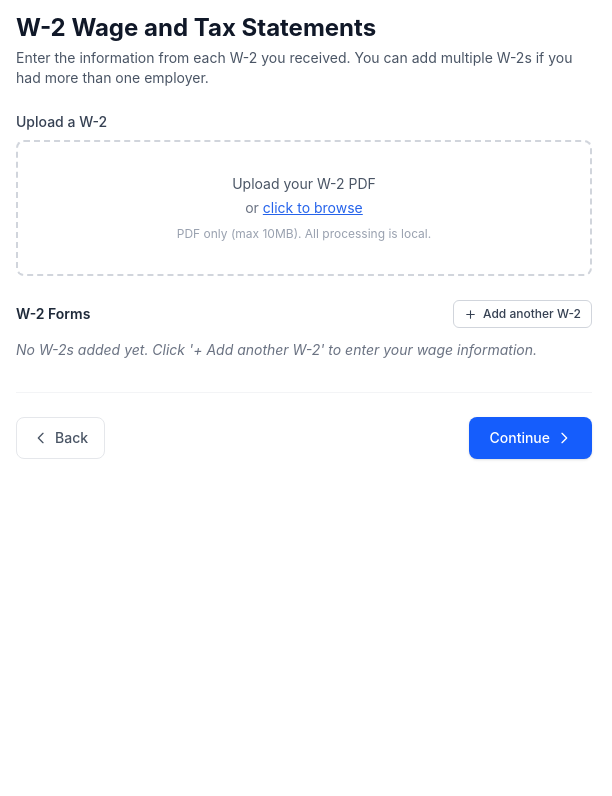
Scenario: W2IncomePage › updates employer name in store
The width and height of the screenshot is (612, 796).
Click the button "Add another W-2": point(522, 314) top-left (453, 300), bottom-right (592, 328)
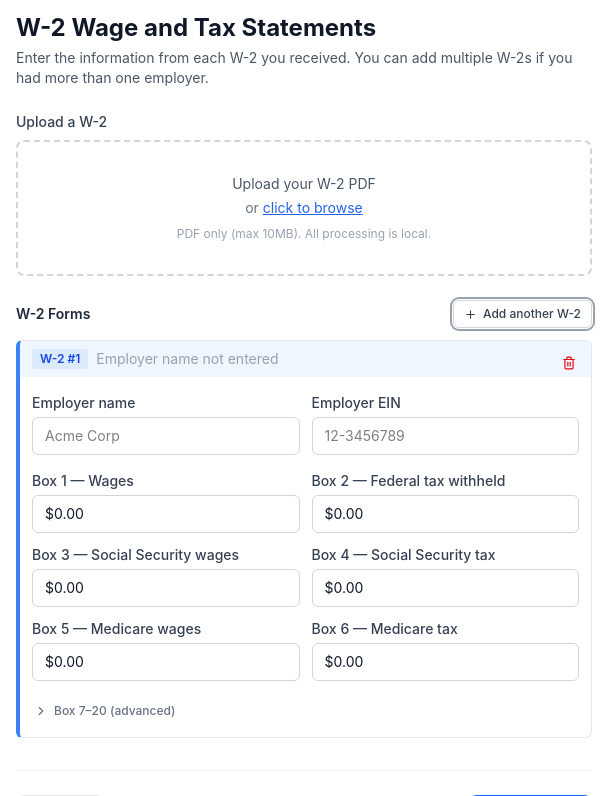
In the field with placeholder "Acme Corp": point(166, 436) top-left (32, 417), bottom-right (300, 455), type "Google"
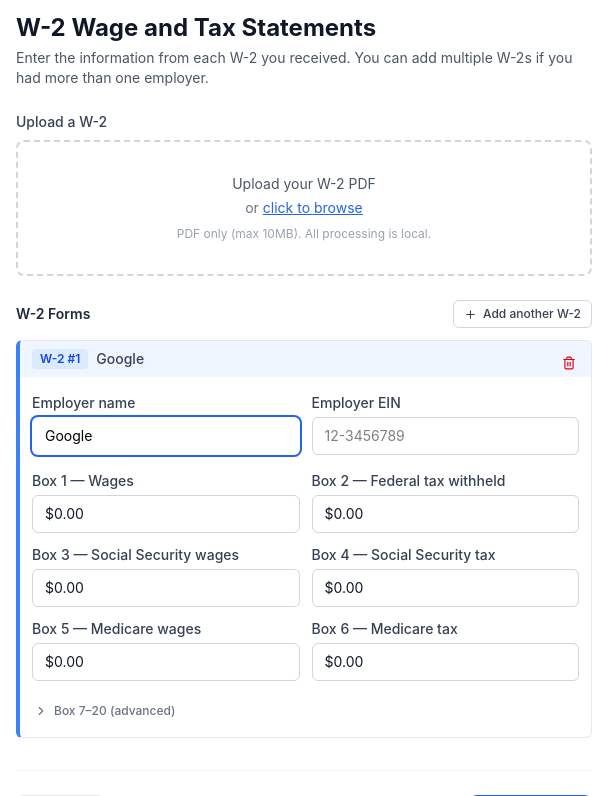
Now the text "Google" is shown, box top-left (96, 349), bottom-right (144, 369)
